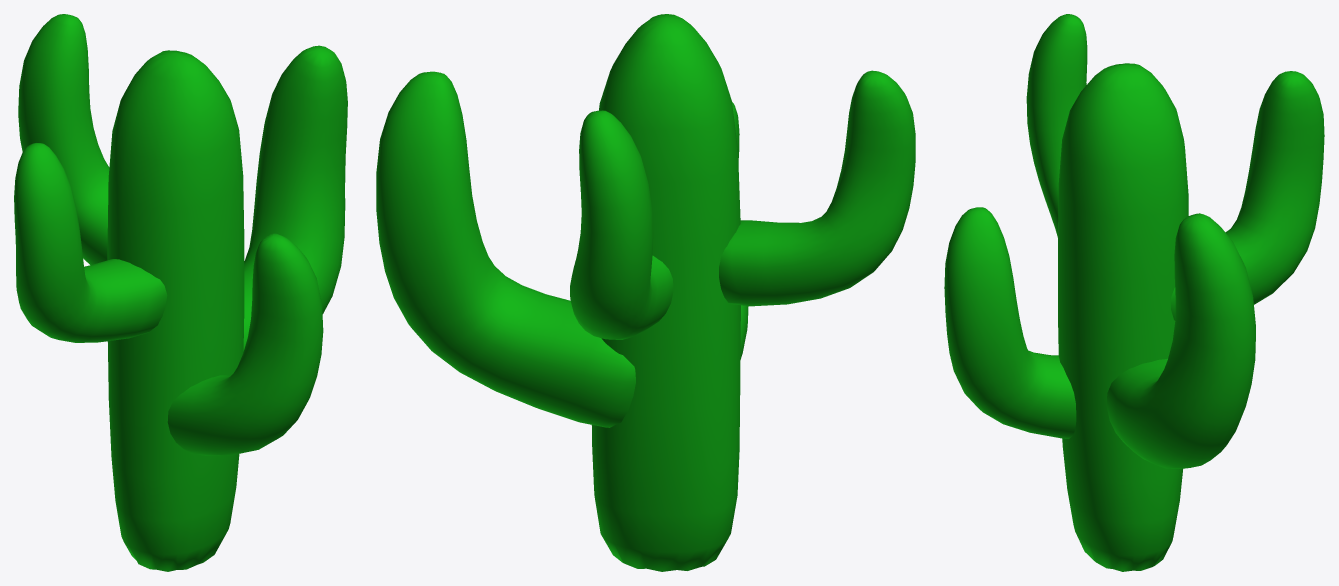
The model's file is Cactus4.fbx.
The picture shows the model from 3 angles, left to right: view 1: azimuth 30°, elevation 25°; view 2: azimuth 150°, elevation 25°; view 3: azimuth 270°, elevation 25°; orthographic projection. The views are drawn at different scales.
Visible parts, largest first — view 1: Cactus4; view 2: Cactus4; view 3: Cactus4.
Boxes of the visible parts, x1,y1,x2,y2 form: Cactus4: (14,14,347,571); Cactus4: (376,14,915,571); Cactus4: (944,14,1324,571).
Size of the model in its own units: 2.69 by 2.21 by 3.21.
